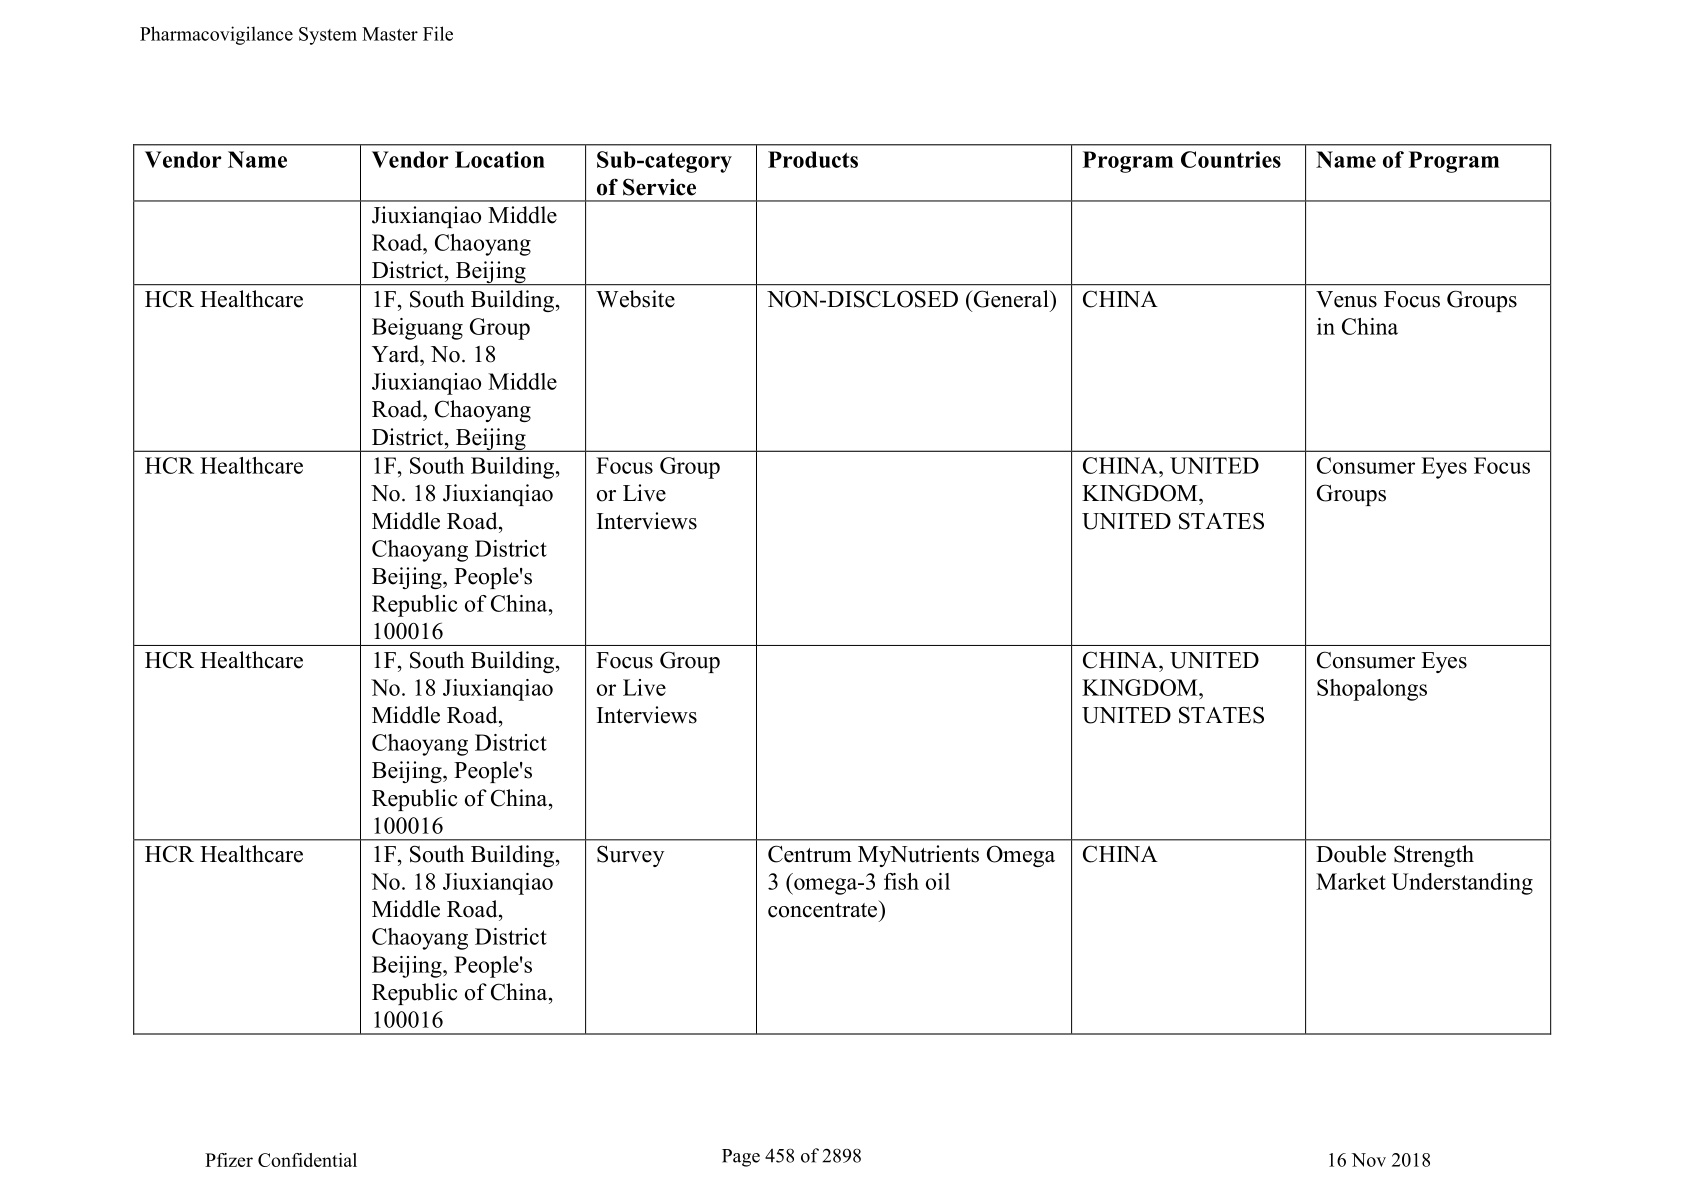full_lined: (133, 144, 1552, 1035)
